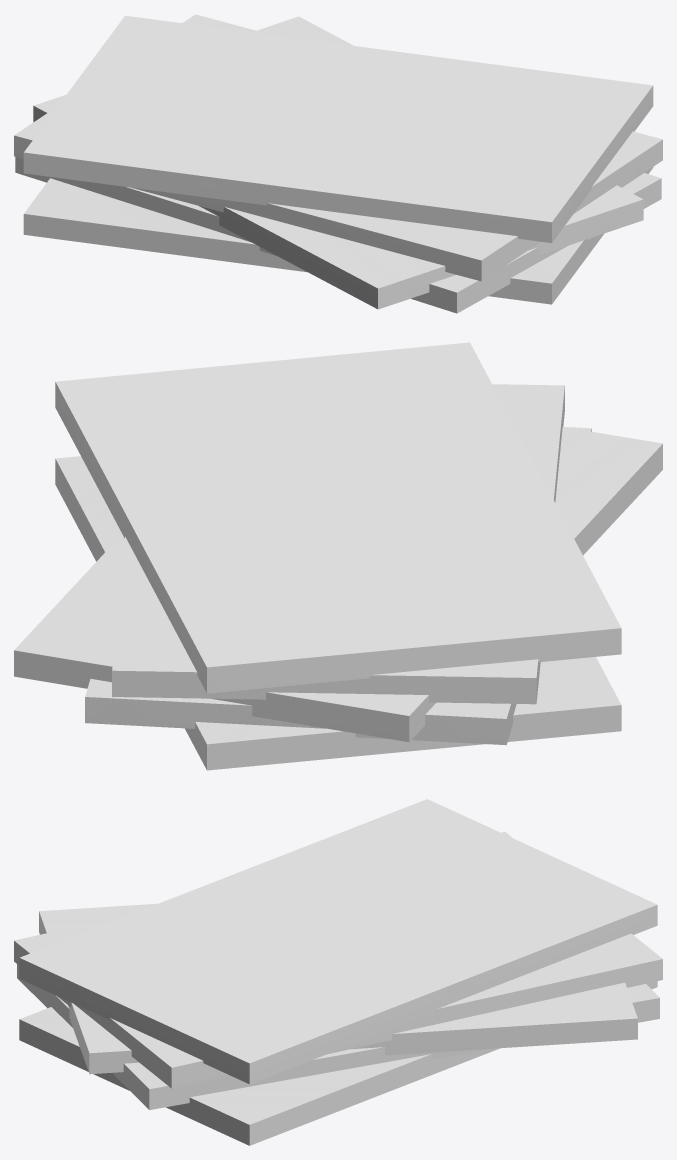
Rendered from Papeles.fbx.
3 renders of one model, top to bottom at view 1: azimuth 30°, elevation 25°; view 2: azimuth 150°, elevation 25°; view 3: azimuth 270°, elevation 25°, orthographic. The views are drawn at different scales.
Parts seen in each view (by area): view 1: Papeles; view 2: Papeles; view 3: Papeles.
Part boxes in pixels (x1=…): Papeles: x1=14, y1=14, x2=662, y2=313; Papeles: x1=14, y1=342, x2=662, y2=770; Papeles: x1=14, y1=799, x2=662, y2=1145.
Size of the model in its own units: 1.8 by 0.2618 by 1.87.
Materials: 1 (1 with a texture image).
